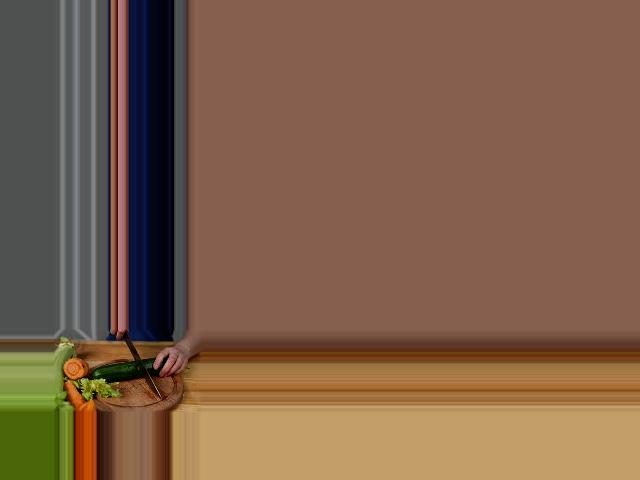cucumber: (90, 357, 167, 381)
